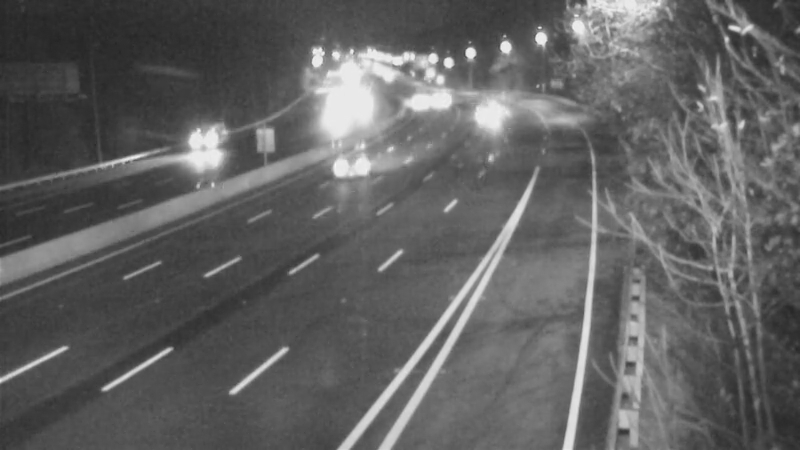vehicle: (308, 129, 388, 209), (415, 72, 465, 122), (390, 80, 440, 130), (461, 87, 511, 137), (173, 120, 223, 170), (303, 95, 353, 145)
